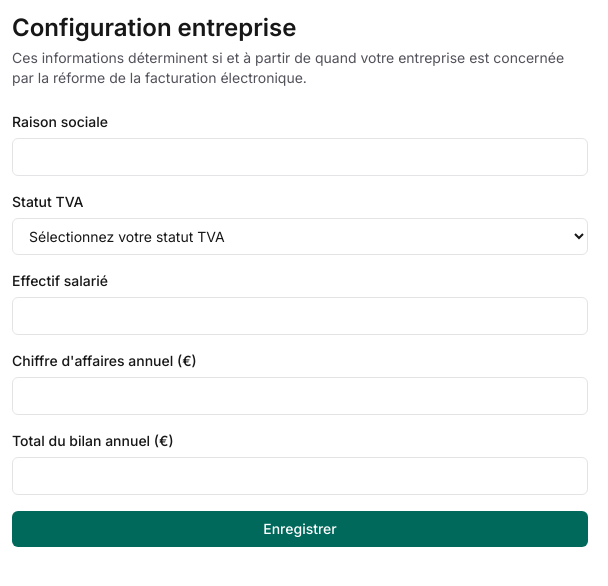
Test: CompanyForm › maps a 422 validation error to the corresponding field
Type "Atelier Test SARL" into the field labelled "Raison sociale" at coordinates (300, 157), box x1=12 y1=138 x2=588 y2=176
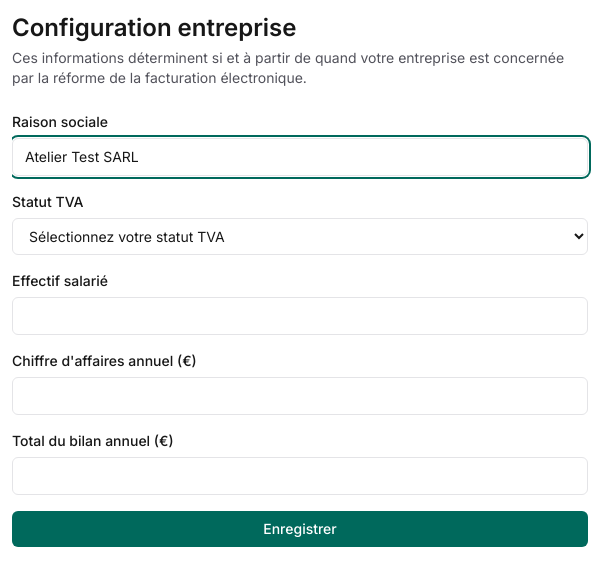
Select "Assujetti et redevable de la TVA" in the dropdown labelled "Statut TVA" at coordinates (300, 236), box x1=12 y1=218 x2=588 y2=255
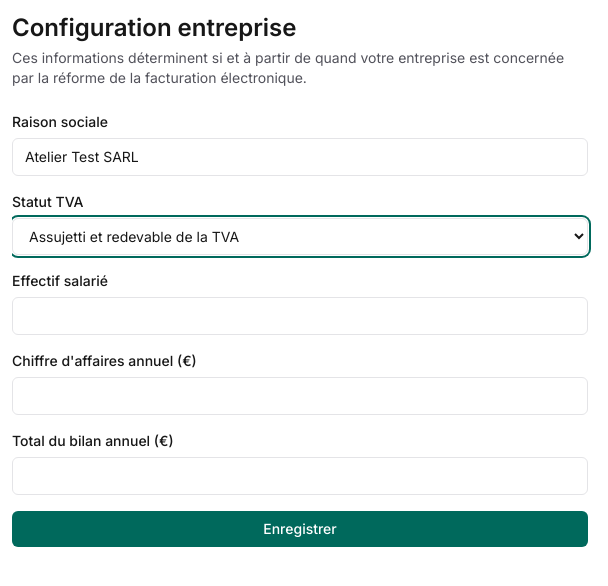
Type "5" into the number field labelled "Effectif salarié" at coordinates (300, 316), box x1=12 y1=297 x2=588 y2=335
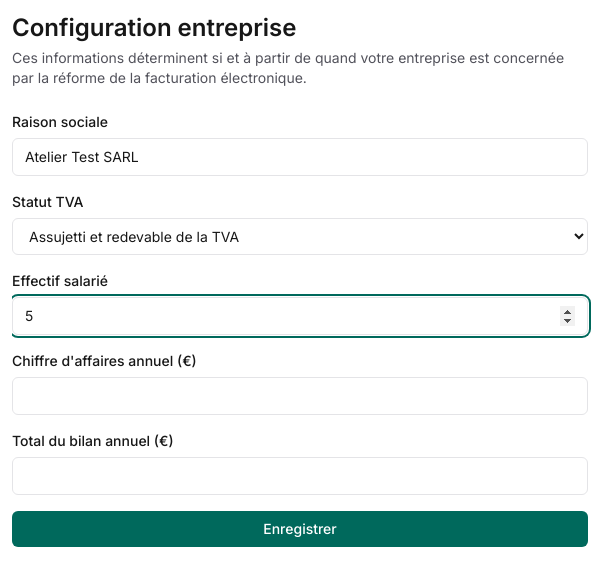
Type "200000" into the number field labelled "Chiffre d'affaires annuel (€)" at coordinates (300, 396), box x1=12 y1=377 x2=588 y2=415
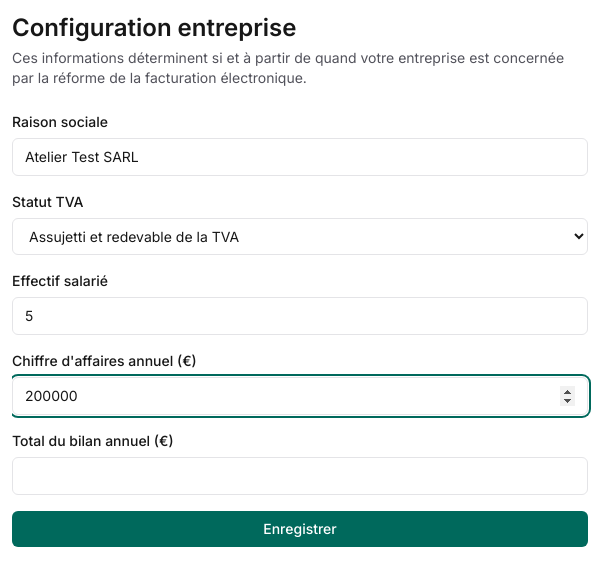
Click the button "Enregistrer" at coordinates (300, 529), box x1=12 y1=511 x2=588 y2=547
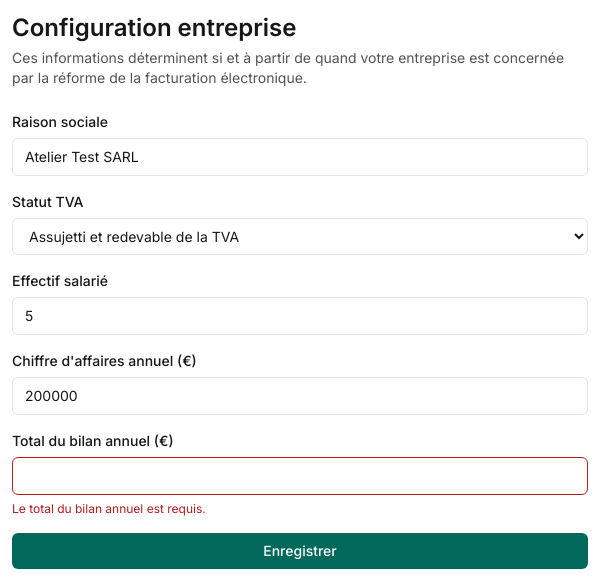
Check: the text "Le total du bilan annuel est requis." is shown, box x1=12 y1=501 x2=206 y2=516
